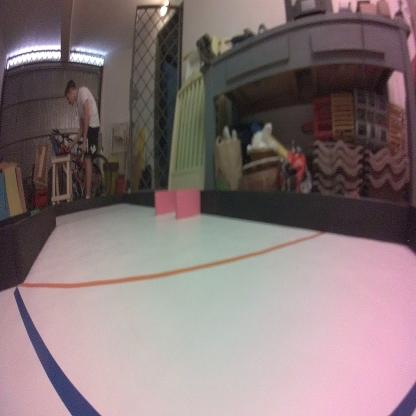magenta: (176, 190, 198, 221), (154, 189, 176, 219)
